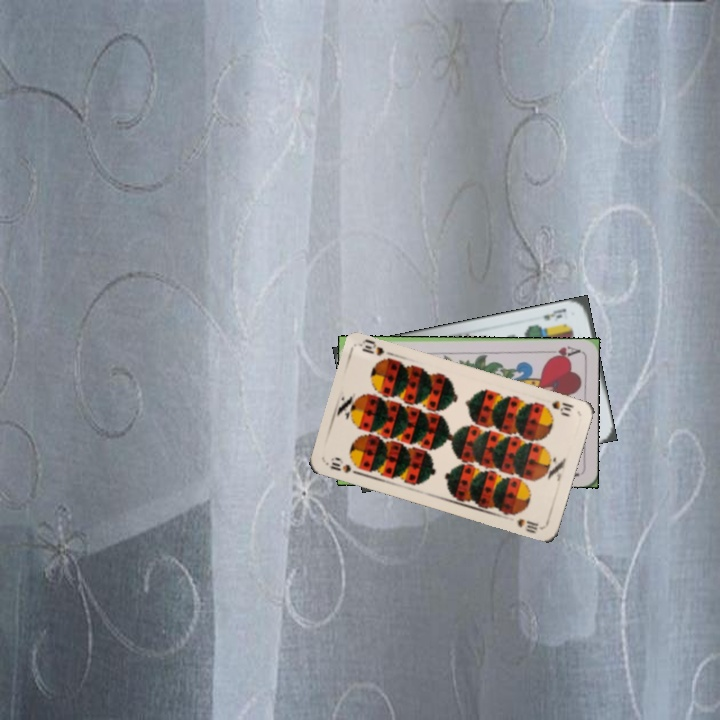EK: (539, 304, 569, 324)
HA: (542, 342, 583, 361)
S10: (538, 396, 576, 419), (326, 454, 354, 476)
